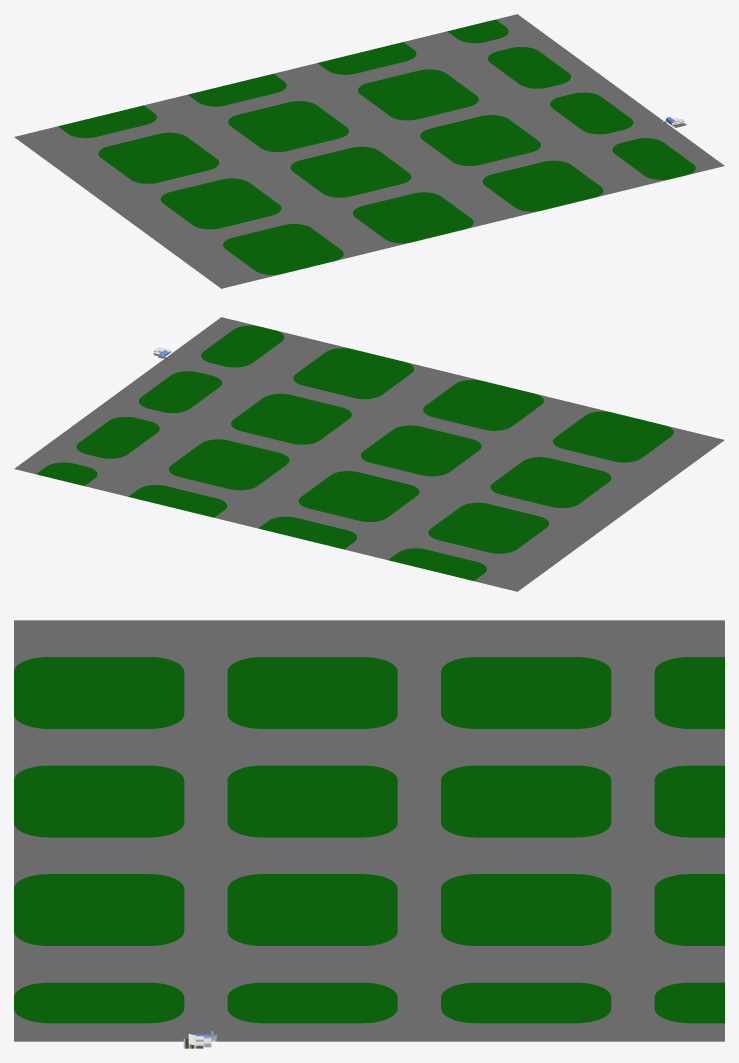
The picture shows the model from 3 angles, top to bottom: view 1: azimuth 30°, elevation 25°; view 2: azimuth 150°, elevation 25°; view 3: azimuth 270°, elevation 25°; orthographic projection. The views are drawn at different scales.
Visible parts, largest first — view 1: 3DGeom-213, 3DGeom-214; view 2: 3DGeom-213, 3DGeom-214; view 3: 3DGeom-213, 3DGeom-214.
Boxes of the visible parts, <box> form: 3DGeom-213: <box>14,14,724,288</box>; 3DGeom-214: <box>58,19,695,274</box>; 3DGeom-213: <box>14,317,724,591</box>; 3DGeom-214: <box>36,325,673,580</box>; 3DGeom-213: <box>14,620,724,1041</box>; 3DGeom-214: <box>14,657,724,1023</box>.
Bounding box in the file's own units: 1055 × 735 × 9.64.
Materials: 20 (6 with a texture image).
